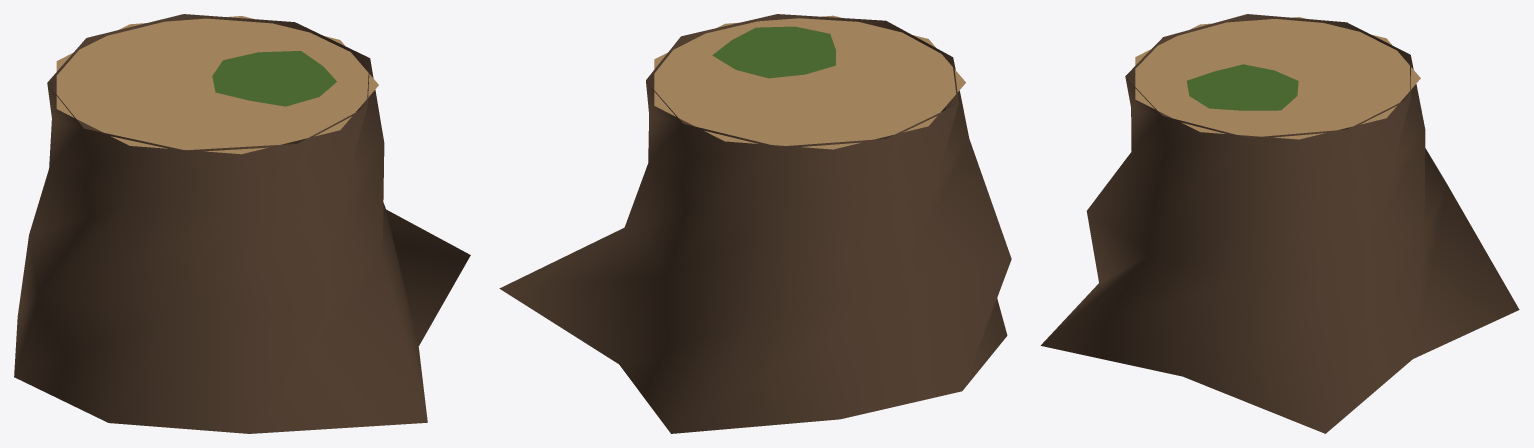
Rendered from StumpB.glb.
3 views of the same model, side by side, from view 1: azimuth 30°, elevation 25°; view 2: azimuth 150°, elevation 25°; view 3: azimuth 270°, elevation 25° (orthographic). The views are drawn at different scales.
Visible parts, largest first — view 1: StumpB.bark, StumpB.wood, StumpB.moss; view 2: StumpB.bark, StumpB.wood, StumpB.moss; view 3: StumpB.bark, StumpB.wood, StumpB.moss.
Boxes of the visible parts, bbox=[...] form: StumpB.bark: bbox=[14, 14, 470, 433]; StumpB.wood: bbox=[56, 16, 378, 154]; StumpB.moss: bbox=[212, 51, 336, 106]; StumpB.bark: bbox=[499, 14, 1011, 433]; StumpB.wood: bbox=[654, 15, 965, 149]; StumpB.moss: bbox=[712, 26, 835, 78]; StumpB.bark: bbox=[1040, 14, 1519, 433]; StumpB.wood: bbox=[1135, 17, 1420, 139]; StumpB.moss: bbox=[1186, 64, 1298, 110].
Bounding box in the file's own units: 4.05 × 2.21 × 3.95.
